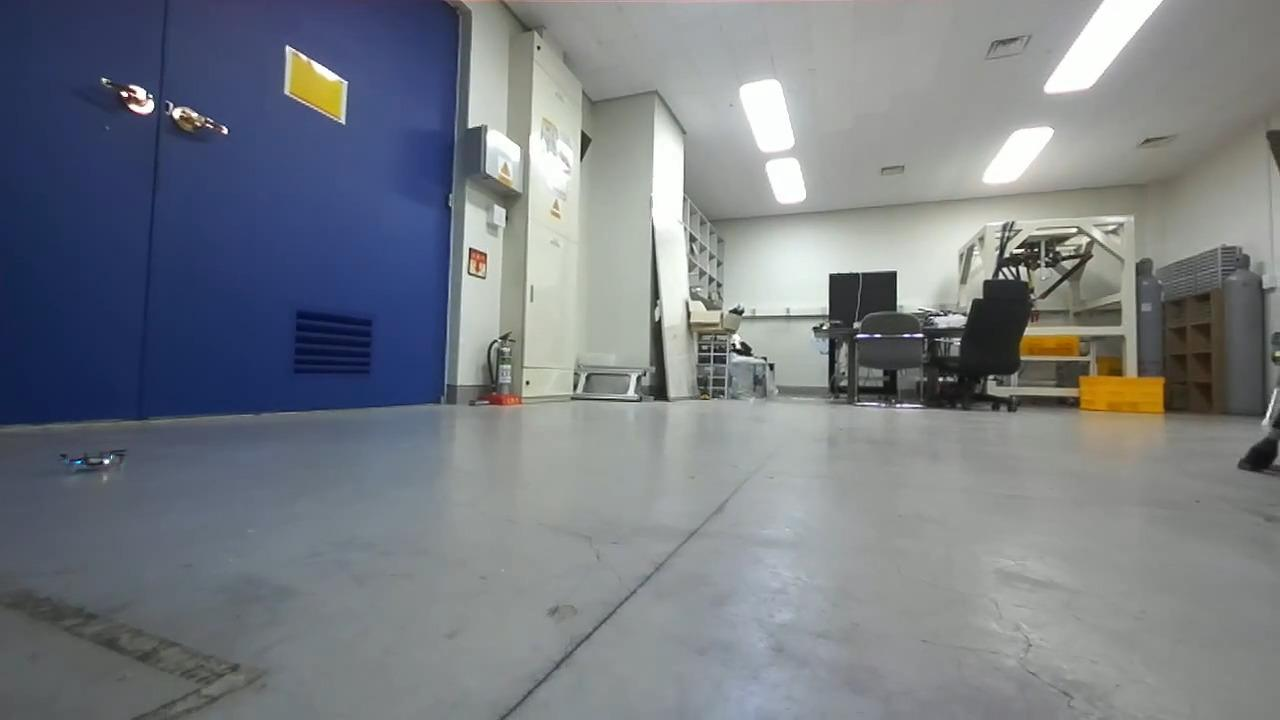crazyflie: (53, 445, 129, 477)
